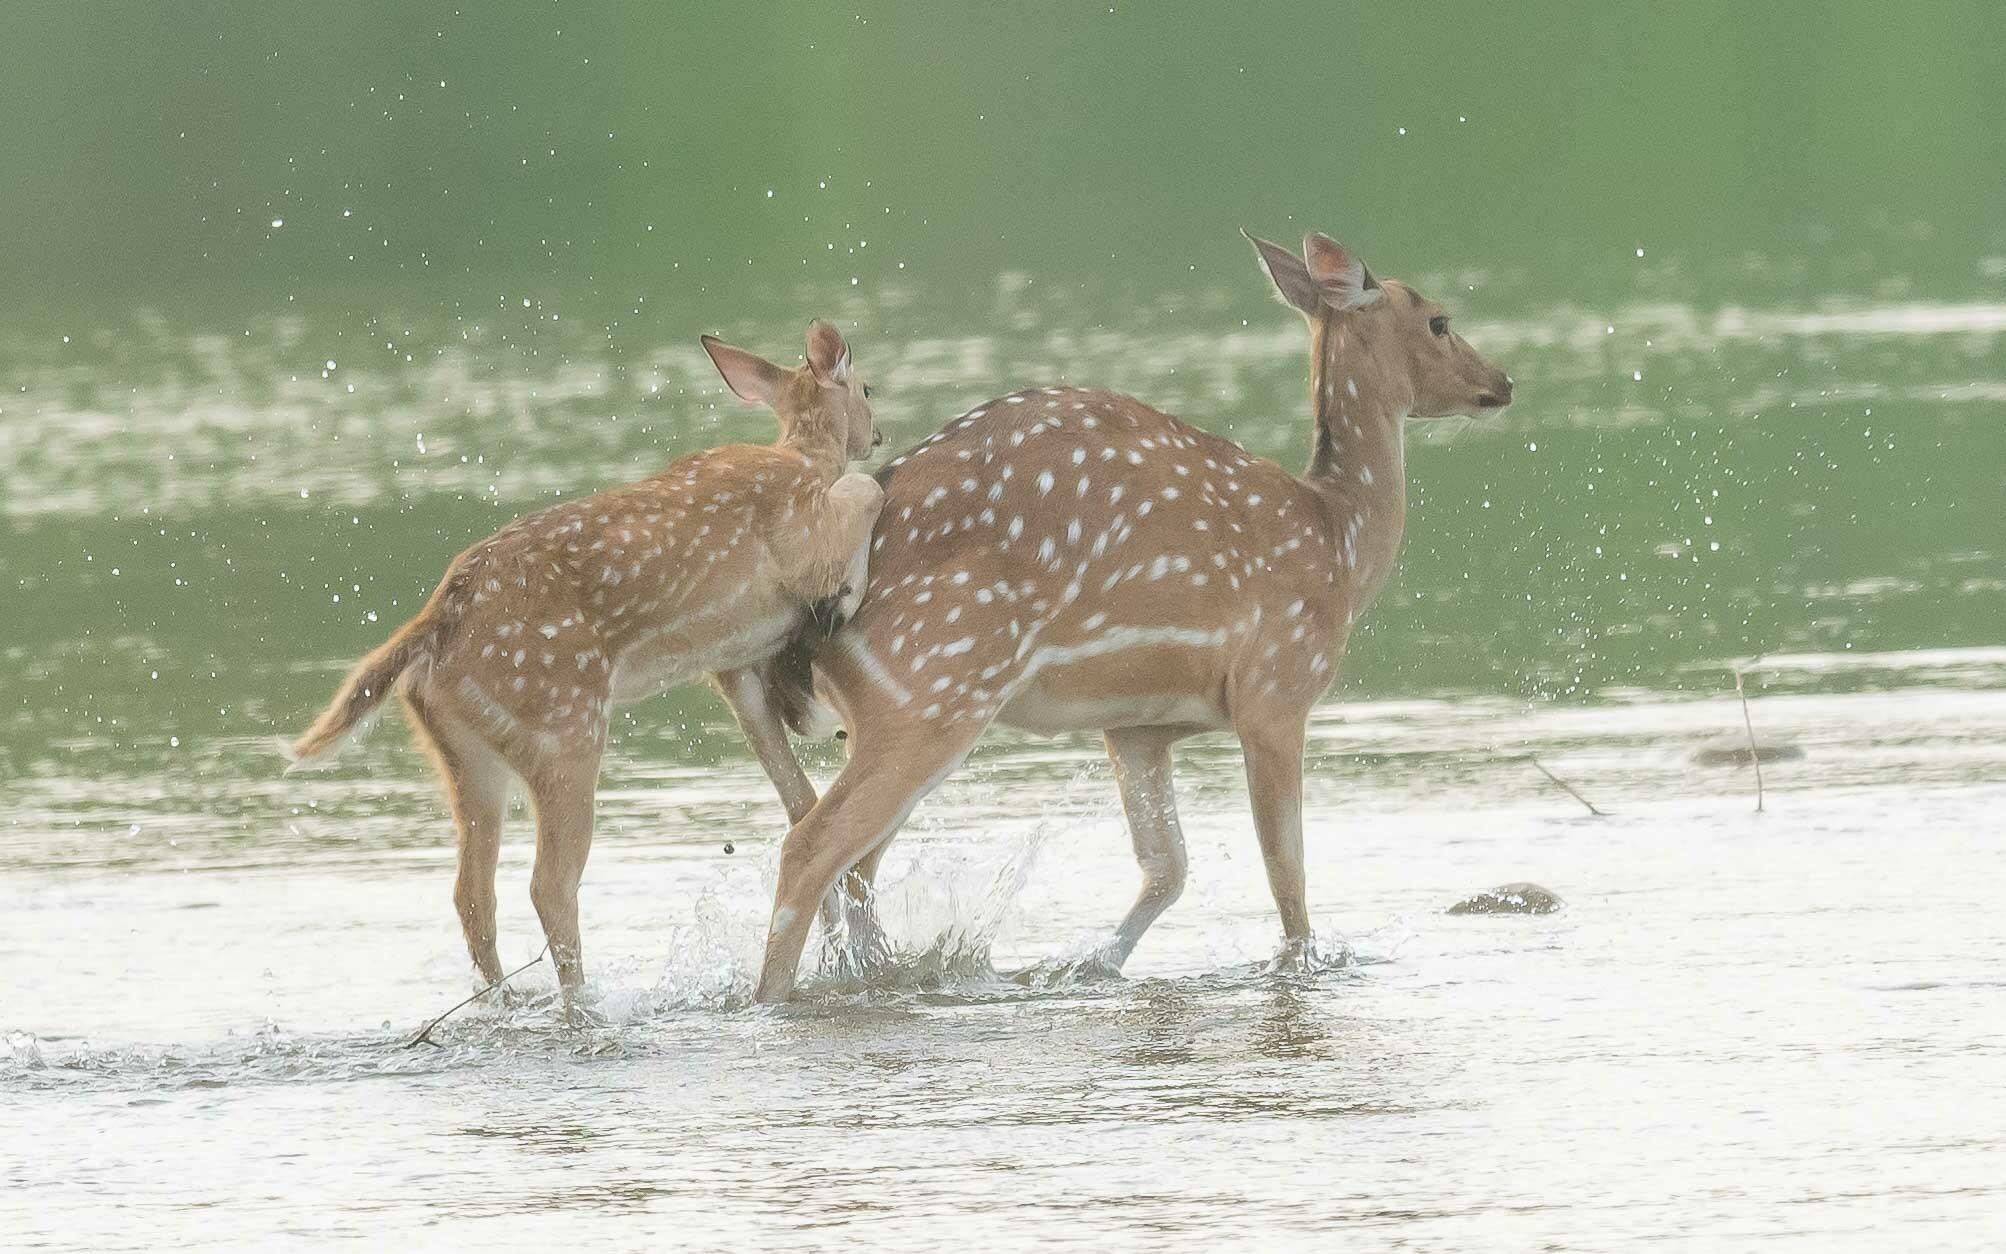Deer: (755, 230, 1512, 1000), (287, 321, 882, 990)
